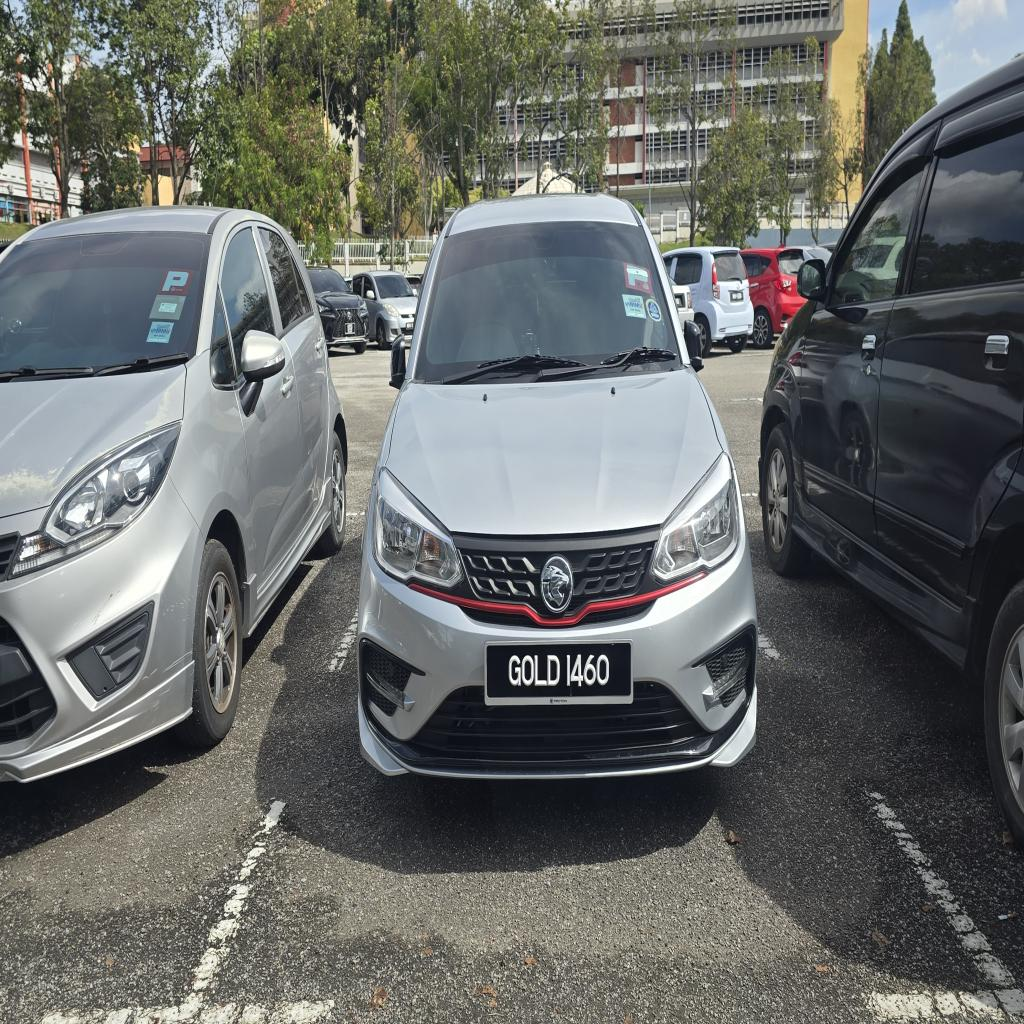car: (358, 195, 756, 778)
car plate: (485, 642, 632, 705)
